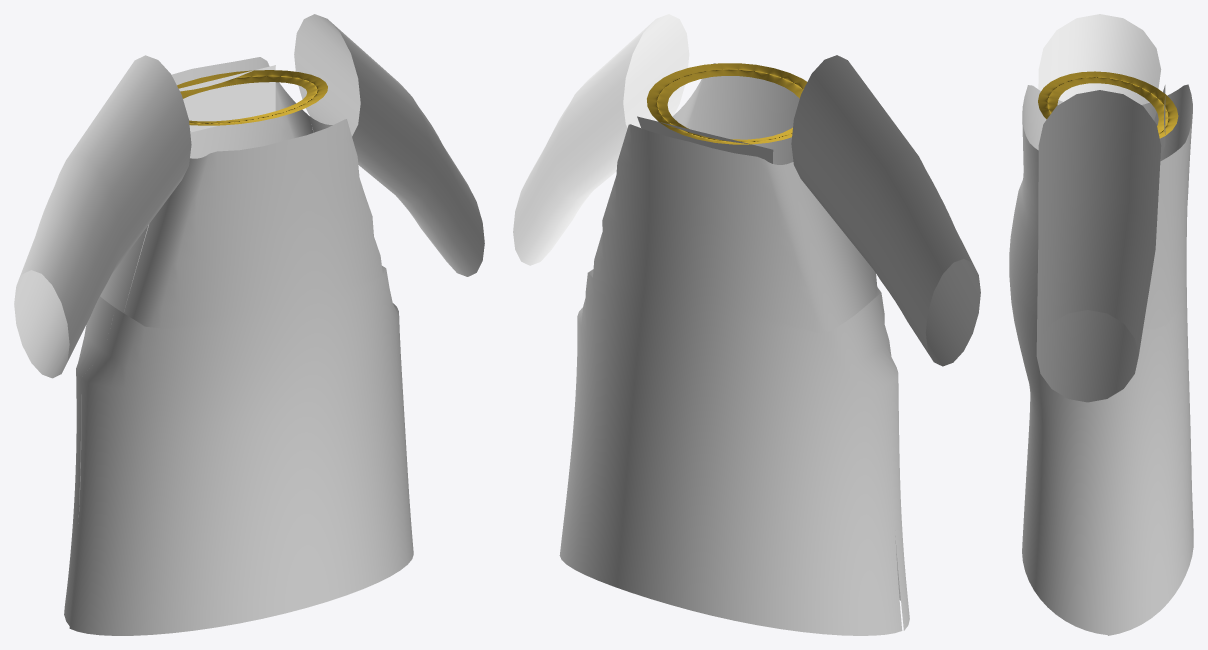
Rendered from raglan-crew.glb.
3 views of the same model, side by side, from view 1: azimuth 30°, elevation 25°; view 2: azimuth 150°, elevation 25°; view 3: azimuth 270°, elevation 25° (orthographic). The views are drawn at different scales.
Visible parts, largest first — view 1: Jersey_raglan-crew; view 2: Jersey_raglan-crew; view 3: Jersey_raglan-crew.
Part boxes in pixels (bbox=[...]): Jersey_raglan-crew: bbox=[14, 14, 484, 635]; Jersey_raglan-crew: bbox=[513, 14, 980, 635]; Jersey_raglan-crew: bbox=[1009, 14, 1193, 635].
Bounding box in the file's own units: 1.08 × 1.37 × 0.4518.
